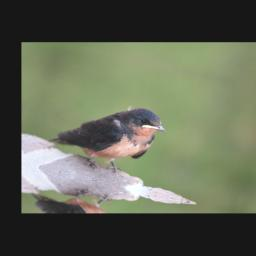Swallow: (43, 89, 172, 183)
